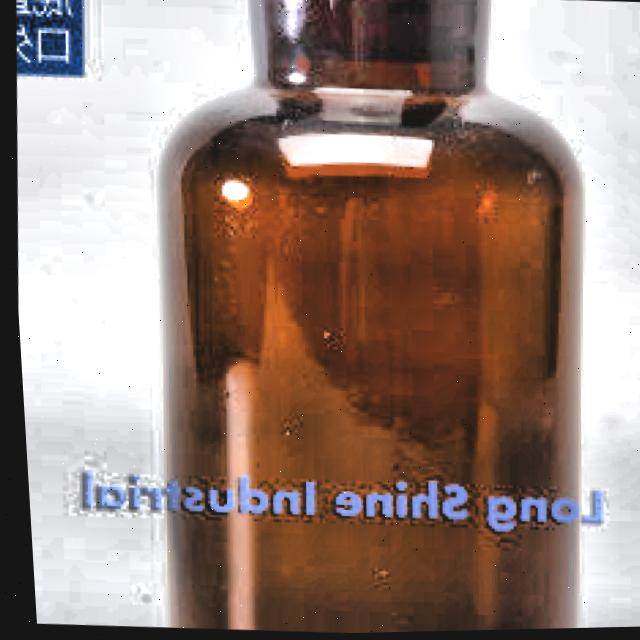glass: (155, 0, 587, 635)
